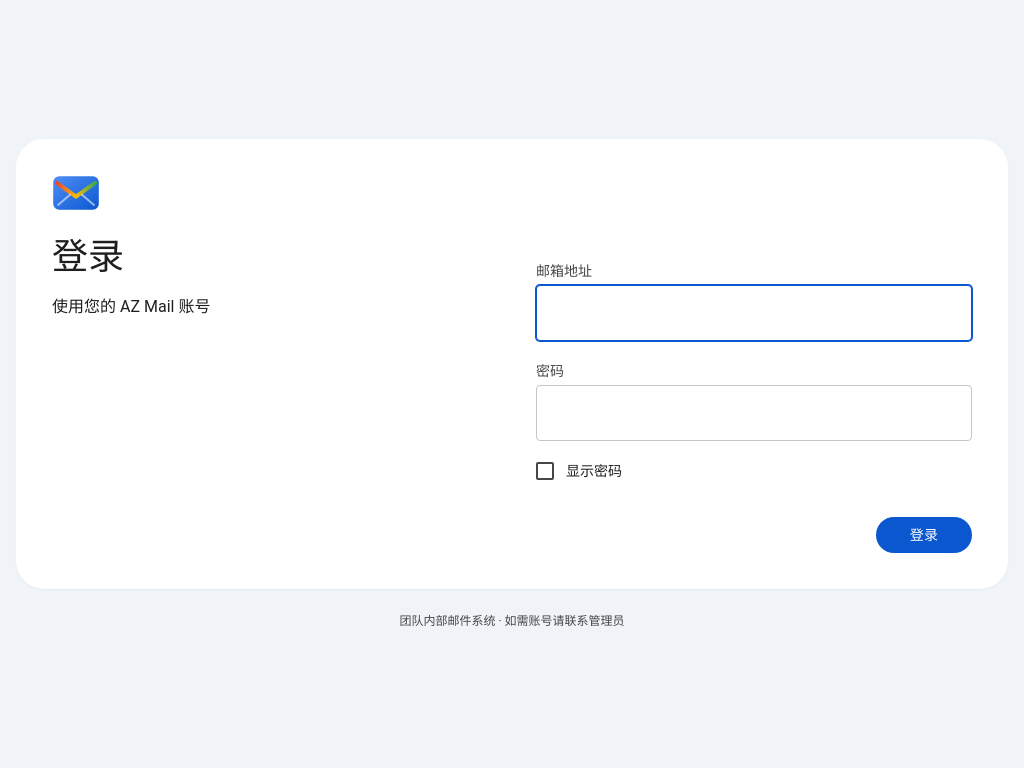
Test: LoginPage › logs in and follows ?next
Expected: the heading "登录" is shown, x1=52 y1=236 x2=124 y2=278
Type " alice@team.test " into the field labelled "邮箱地址". click: (754, 313)
box: x1=549 y1=286 x2=959 y2=340
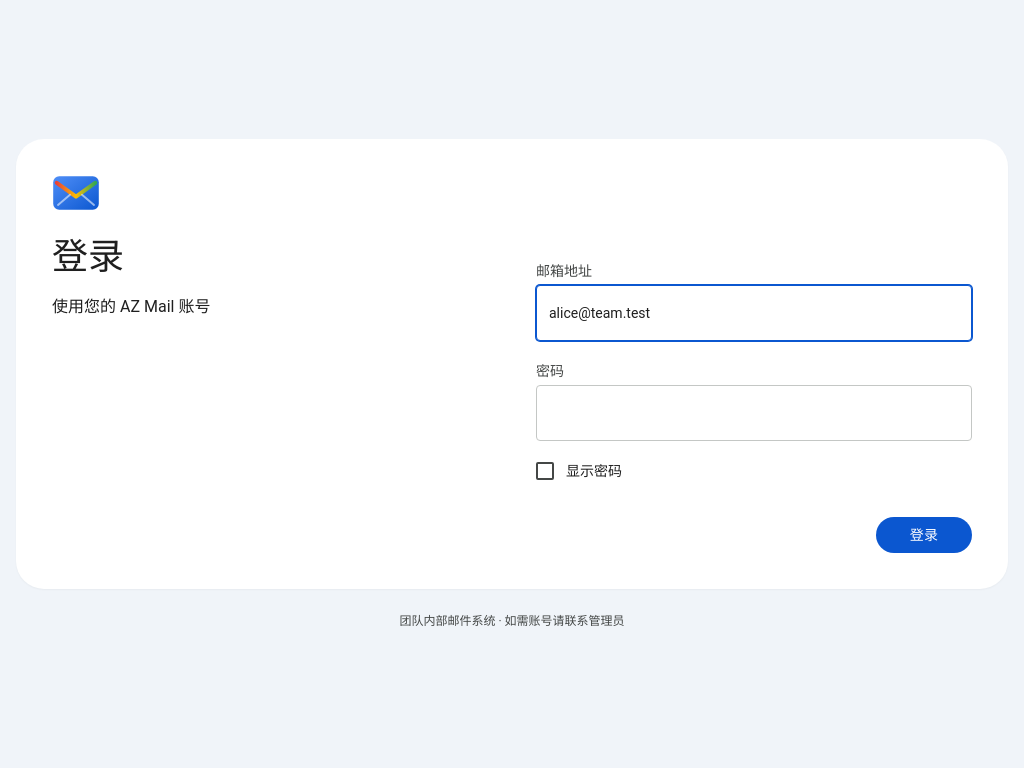
Type "secret" into the password field labelled "密码". click: (754, 413)
box: x1=549 y1=386 x2=959 y2=440
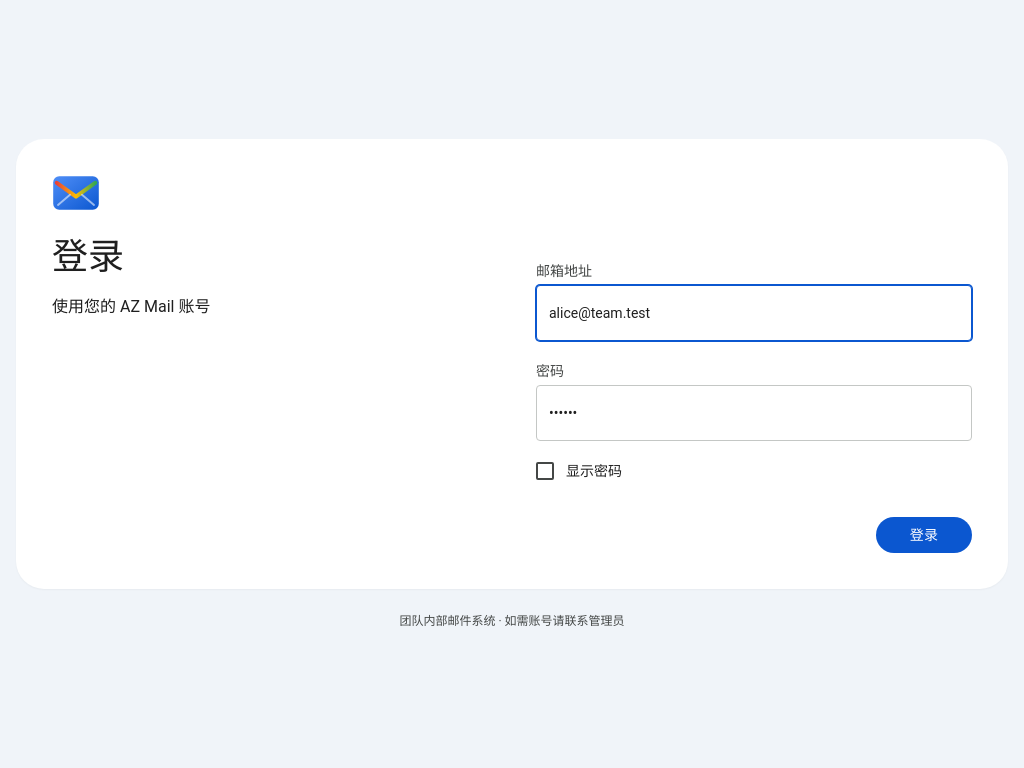
Click the button "登录". click: (924, 535)
box: x1=876 y1=517 x2=972 y2=553
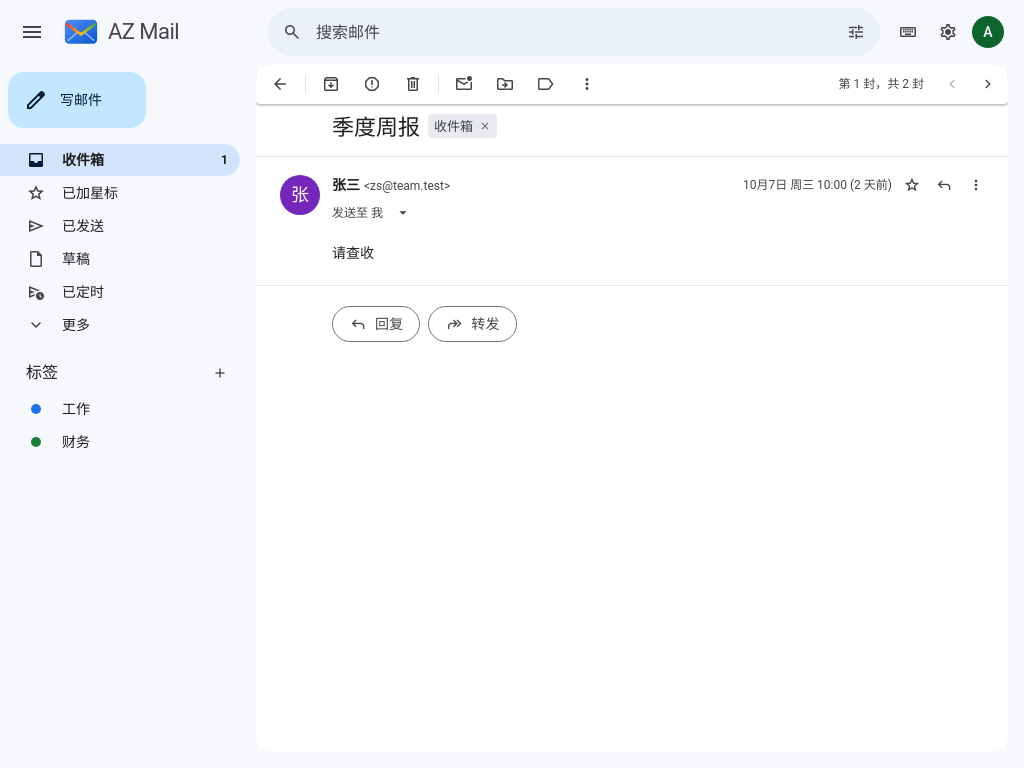
Expected: the heading "季度周报 收件箱" is shown, x1=332 y1=114 x2=497 y2=140
